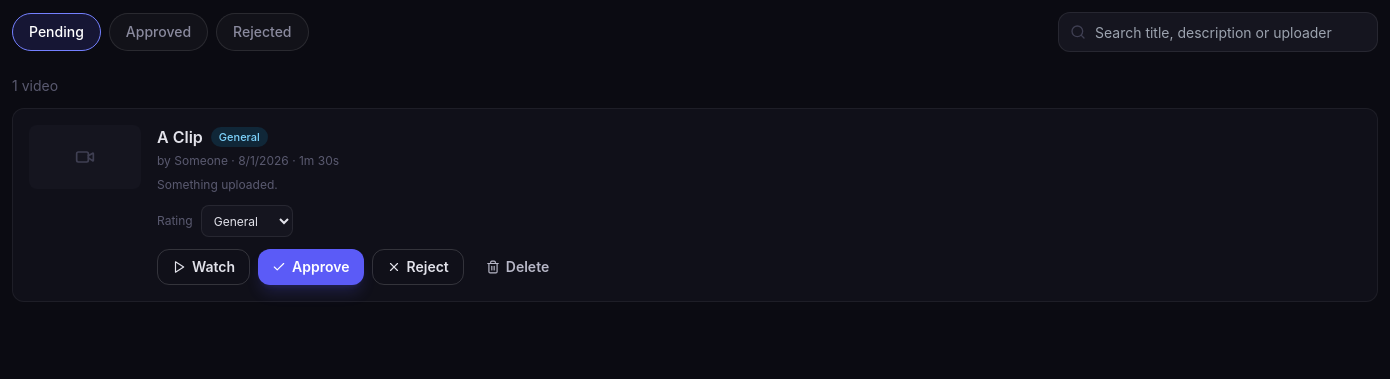
Scenario: ModerationPanel › watching before deciding › says so rather than showing an empty box when there is no file
Expected: the heading "A Clip" is shown, [157,125,203,149]
Step 1. Click the button "Watch" → [204, 267], box [157,249,250,285]
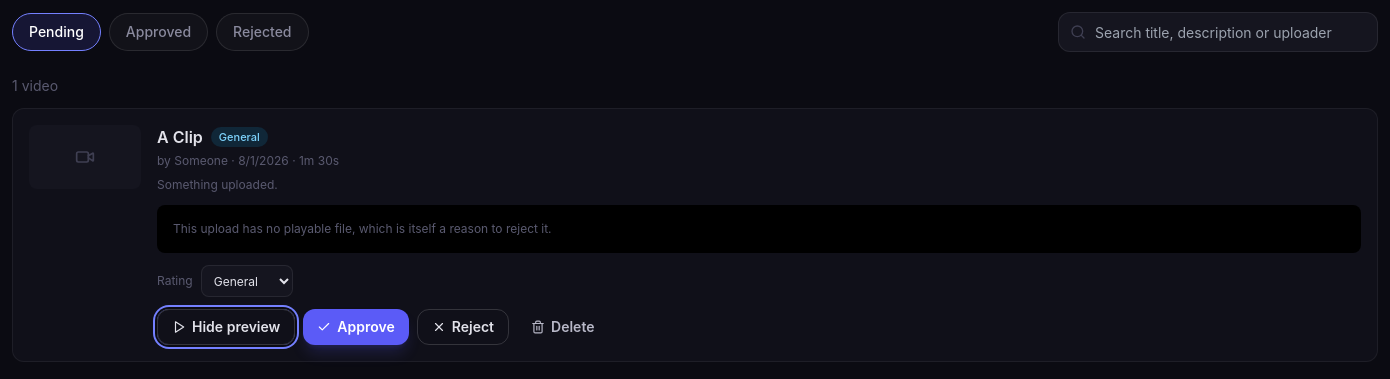
Result: the text "no playable file" is shown at [173,221,552,236]
